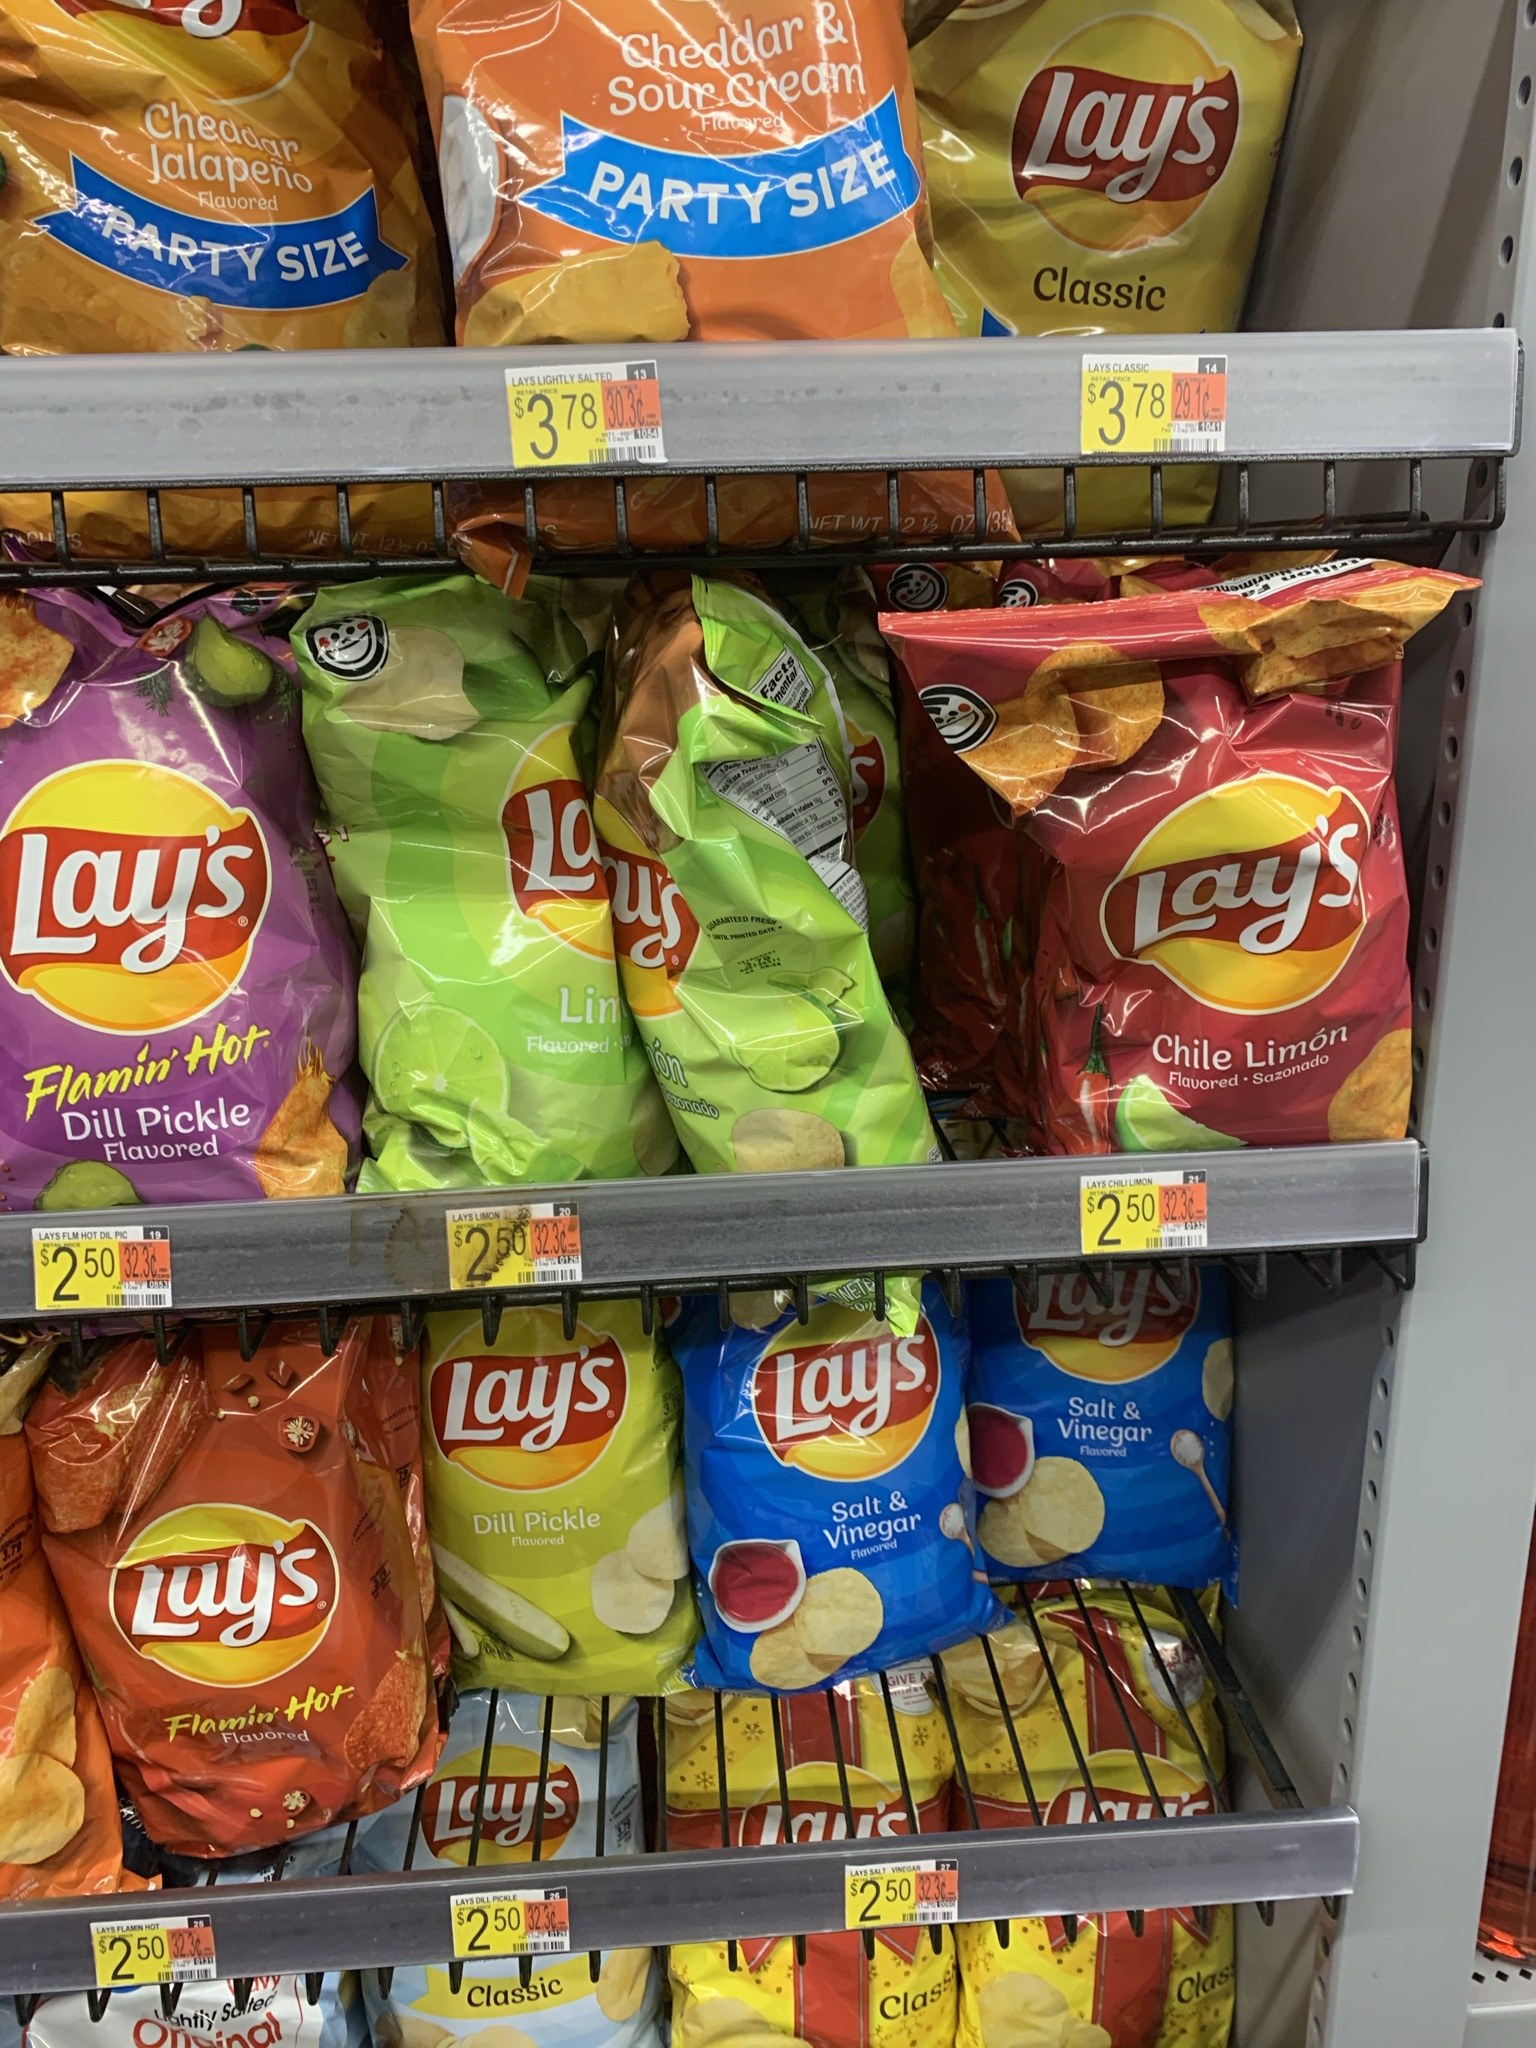lays: (966, 643, 1388, 1121), (2, 614, 303, 1206), (470, 10, 934, 334), (347, 634, 616, 1142), (32, 11, 434, 347), (666, 611, 908, 1161), (73, 1419, 408, 1784), (970, 3, 1234, 331), (721, 1309, 992, 1611), (458, 1342, 694, 1650), (1007, 1274, 1249, 1534)
